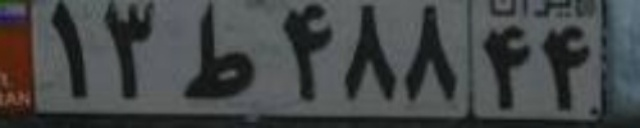1: (46, 1, 90, 98)
3: (100, 0, 153, 98)
4: (277, 3, 330, 101), (479, 25, 529, 109), (542, 26, 589, 111)
8: (343, 4, 395, 101), (405, 4, 456, 101)
dal: (181, 0, 255, 99)
